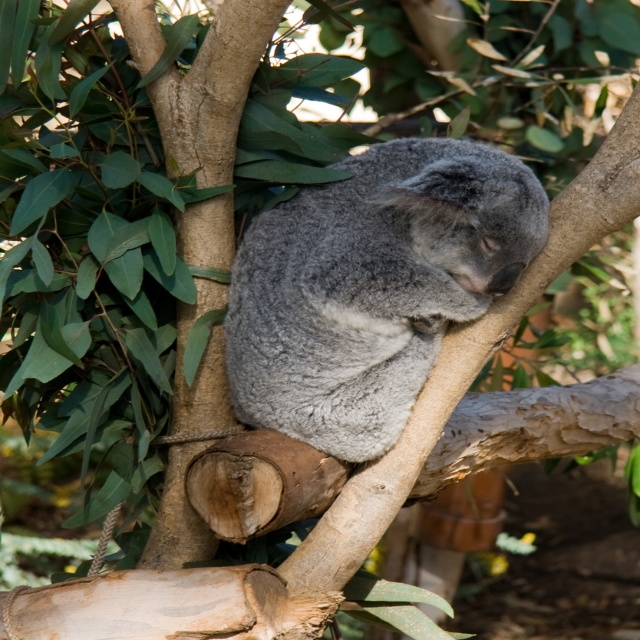Koala: (222, 136, 549, 468)
